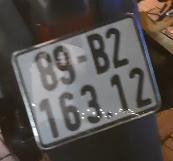1: (34, 94, 63, 142), (106, 71, 132, 116)
2: (125, 62, 155, 111), (102, 24, 133, 71)
3: (76, 81, 108, 126)
6: (54, 88, 85, 134)
8: (29, 48, 62, 93)
9: (49, 43, 79, 87)
B: (83, 29, 114, 78)
